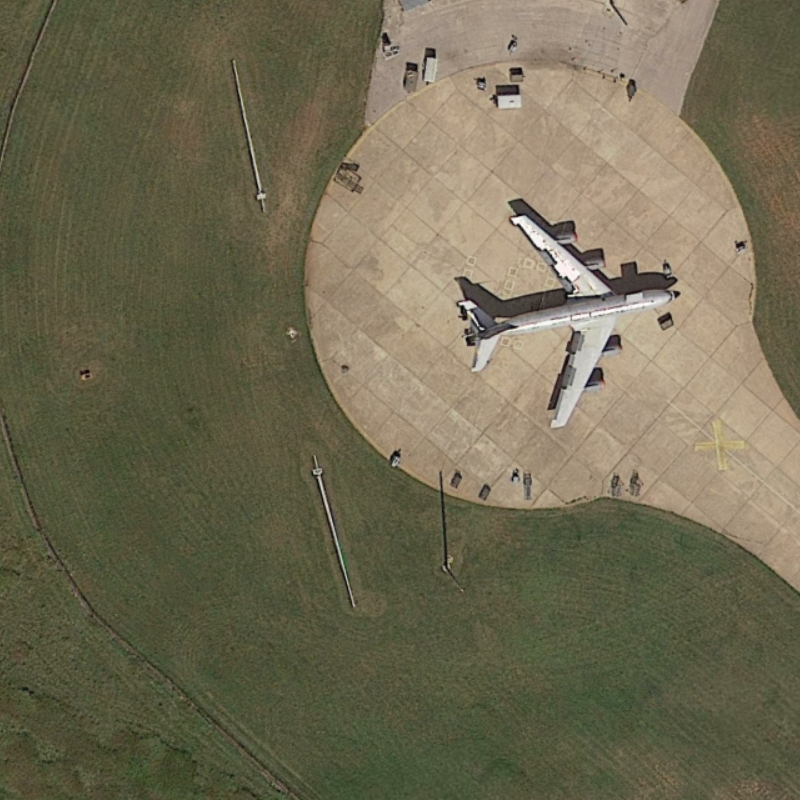A11: (448, 192, 695, 439)
